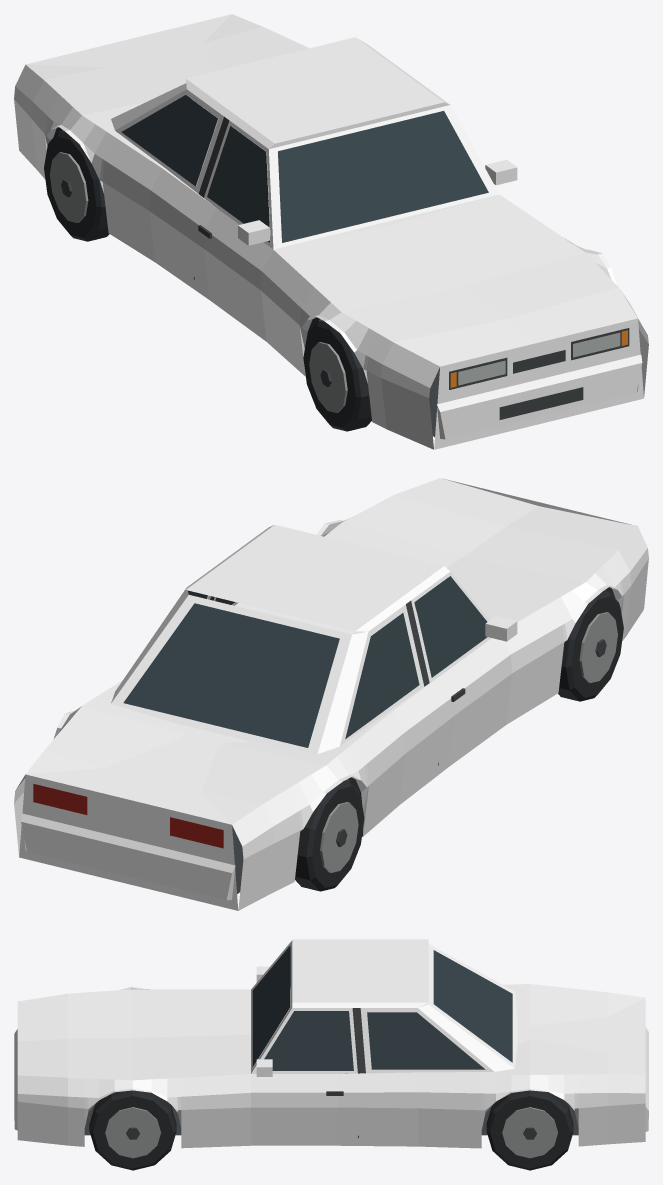
Rendered from hayase_nadeshiko_s_ii.glb.
The picture shows the model from 3 angles, top to bottom: view 1: azimuth 30°, elevation 25°; view 2: azimuth 150°, elevation 25°; view 3: azimuth 270°, elevation 25°; orthographic projection. The views are drawn at different scales.
Visible parts, largest first — view 1: hayase_nadeshiko_s_ii; view 2: hayase_nadeshiko_s_ii; view 3: hayase_nadeshiko_s_ii.
Part boxes in pixels (x1=…): hayase_nadeshiko_s_ii: x1=14, y1=14, x2=648, y2=449; hayase_nadeshiko_s_ii: x1=14, y1=478, x2=648, y2=910; hayase_nadeshiko_s_ii: x1=14, y1=939, x2=648, y2=1170.
Size of the model in its own units: 1.82 by 1.23 by 4.7.
Materials: 8 (1 with a texture image).
